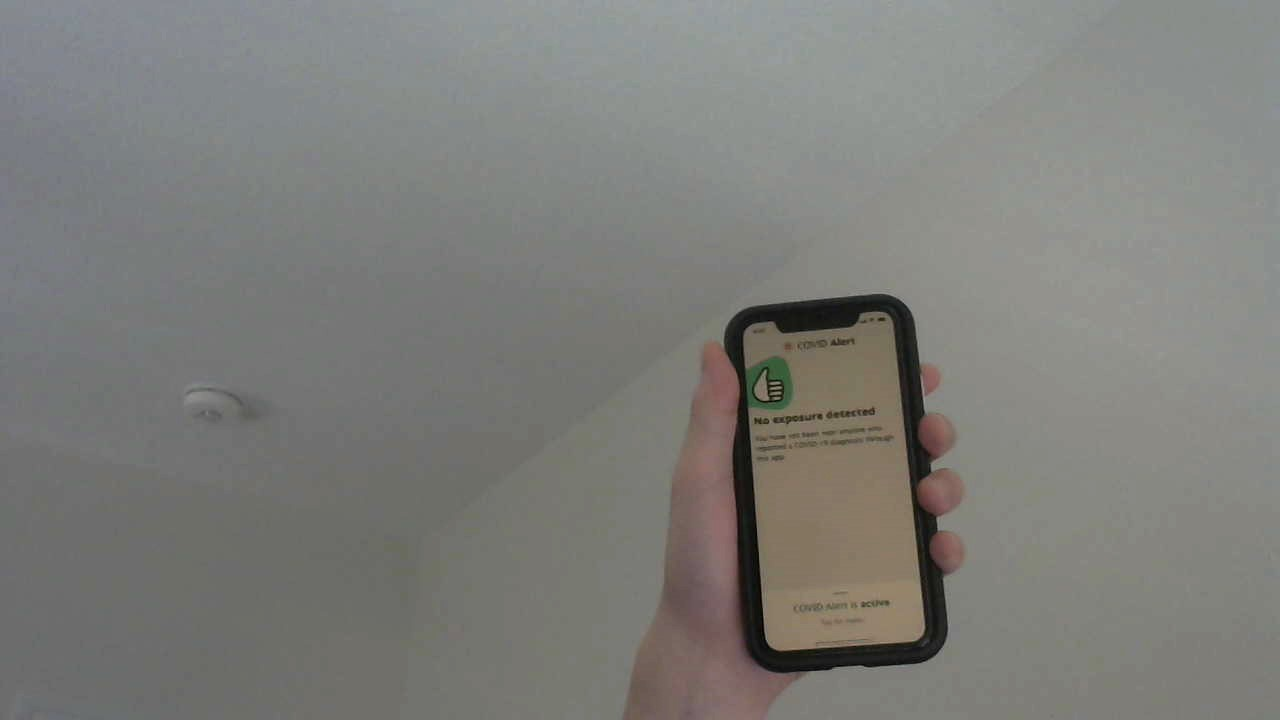Safe: (737, 350, 895, 430)
